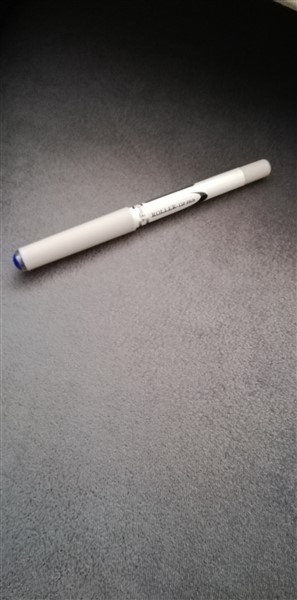pilot kalem: (9, 152, 275, 280)
